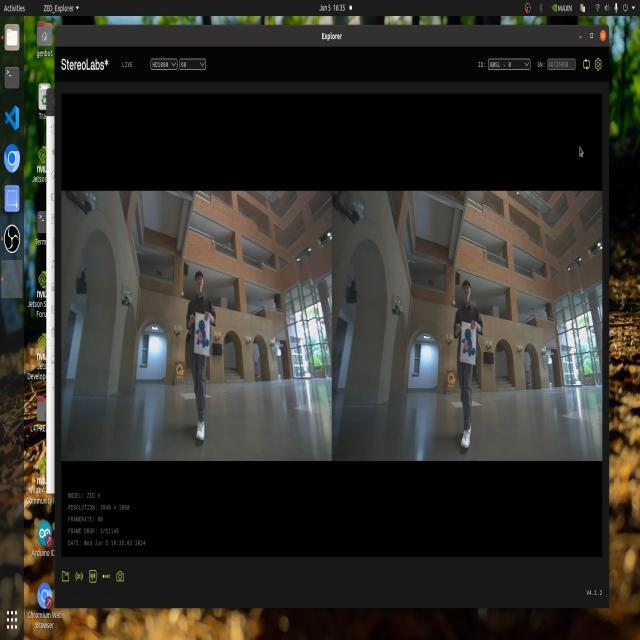blue: (187, 311, 211, 356), (461, 323, 479, 358)
